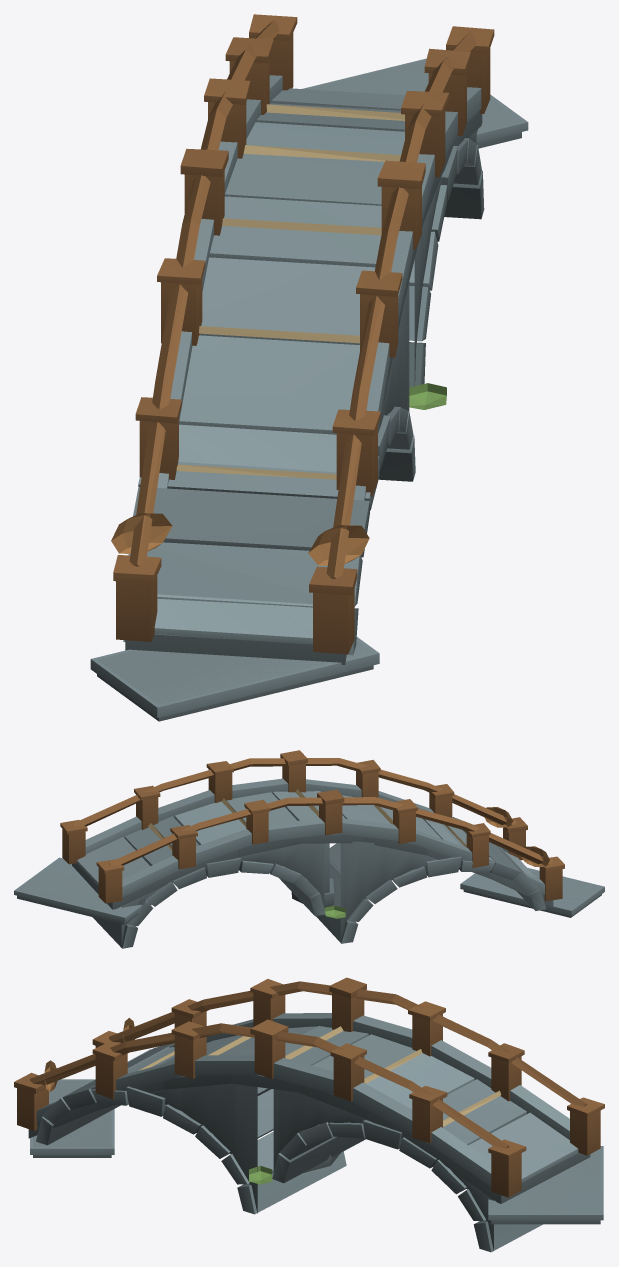
Rendered from guha.glb.
The picture shows the model from 3 angles, top to bottom: view 1: azimuth 30°, elevation 25°; view 2: azimuth 150°, elevation 25°; view 3: azimuth 270°, elevation 25°; orthographic projection. The views are drawn at different scales.
Visible parts, largest first — view 1: bridge-guha; view 2: bridge-guha; view 3: bridge-guha.
Boxes of the visible parts, <box> form: bridge-guha: <box>90,14,528,721</box>; bridge-guha: <box>14,750,604,948</box>; bridge-guha: <box>14,977,604,1252</box>.
Bounding box in the file's own units: 1.44 × 0.6016 × 1.58.
